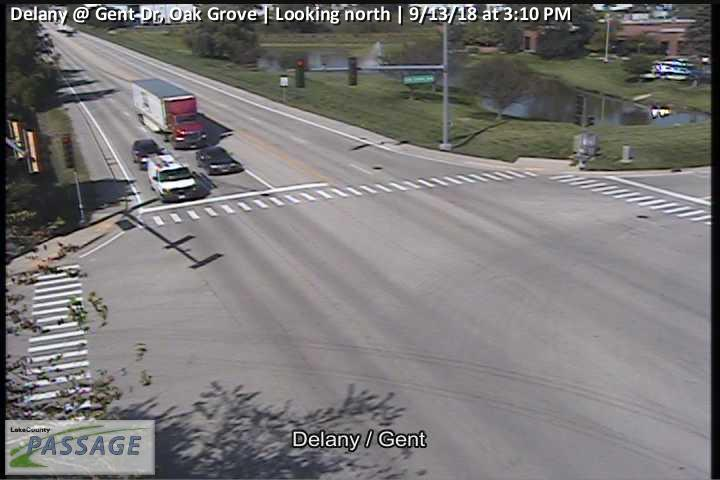SUV: (146, 155, 199, 202)
Sedan: (195, 146, 242, 175), (130, 138, 166, 171)
Truck: (130, 75, 208, 151)
